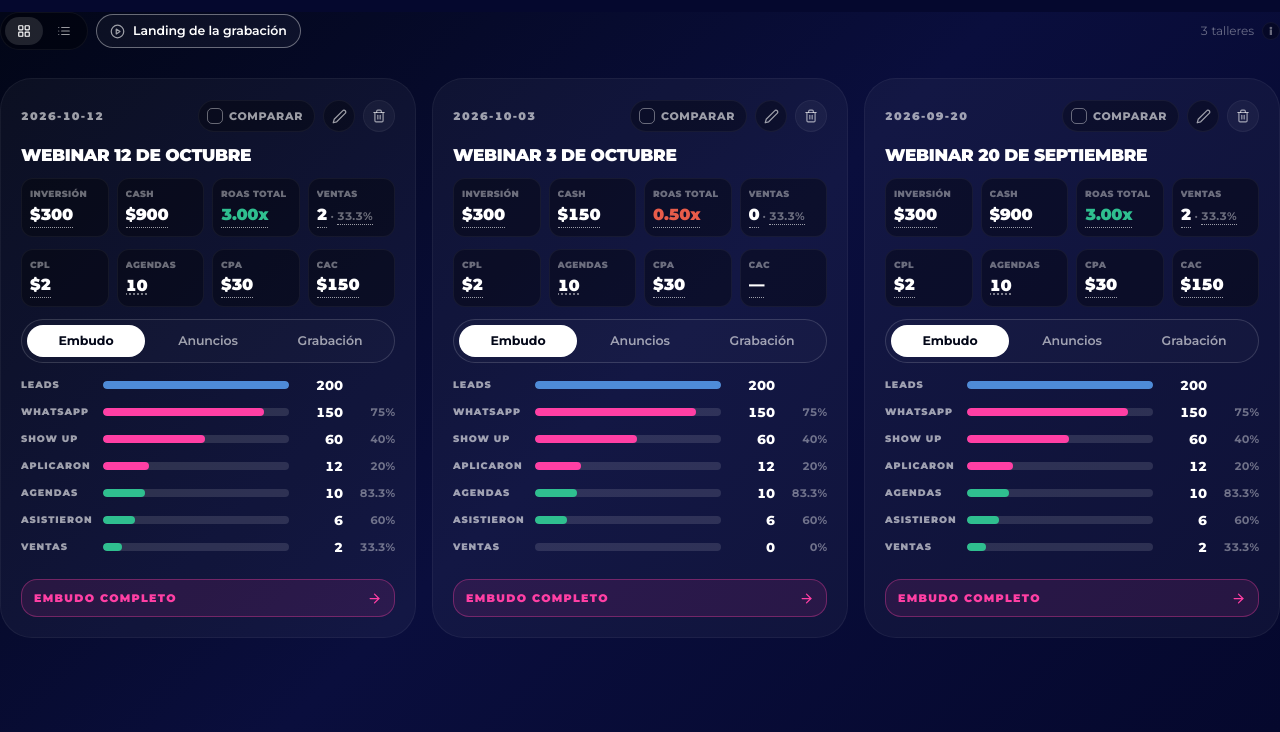
Test: Workshop › Talleres › el interruptor de la grabación la publica 48 h desde la tarjeta
Click the tab "Grabación" below "WEBINAR 12 DE OCTUBRE": [330, 341] box [271,325,389,357]
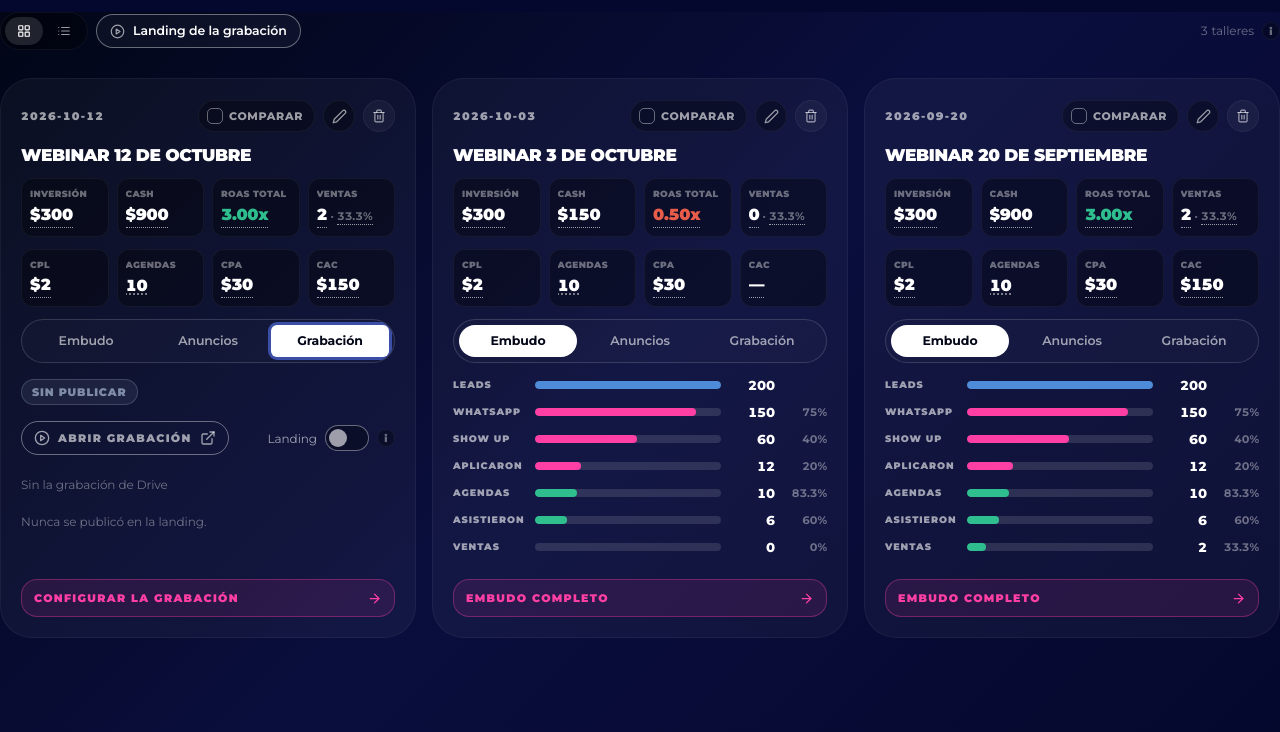
Click the switch named "Landing de la grabación": [347, 438] box [325,425,369,451]
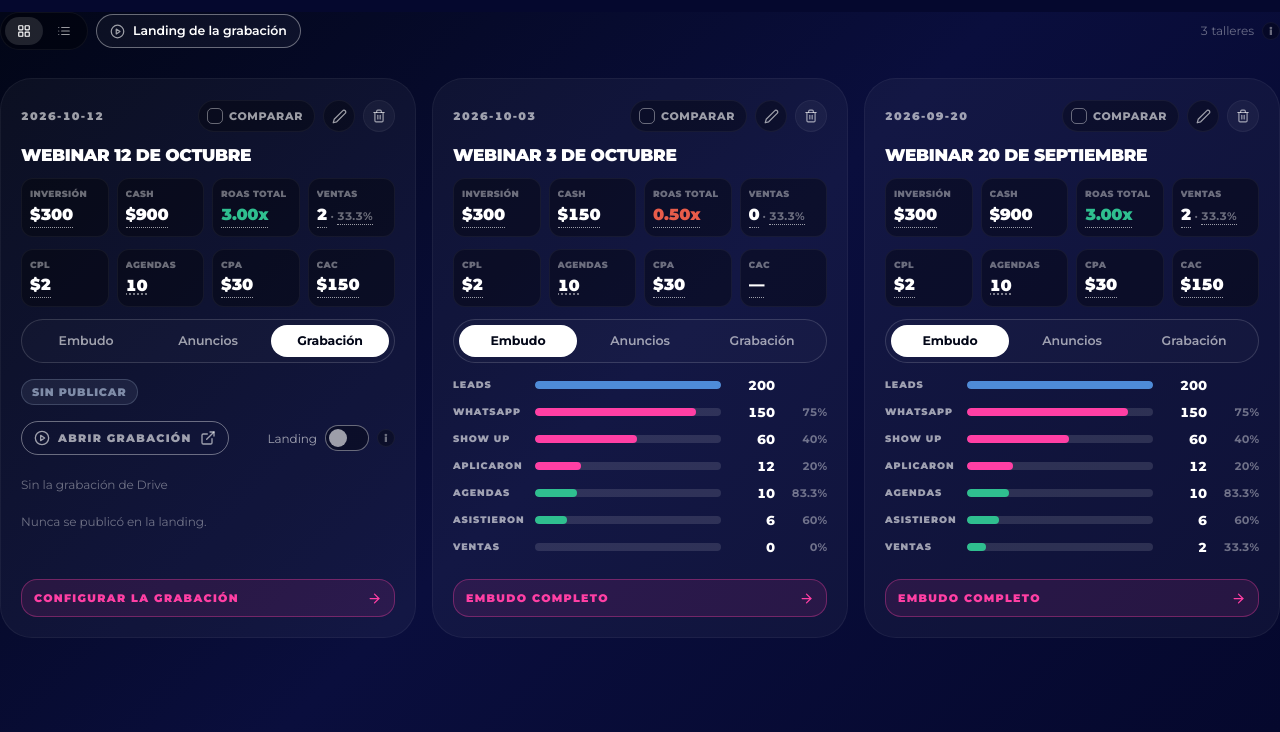
# Sin Loom cargado no se puede prender.
Click the tab "Grabación" below "WEBINAR 3 DE OCTUBRE": [762, 341] box [703,325,821,357]
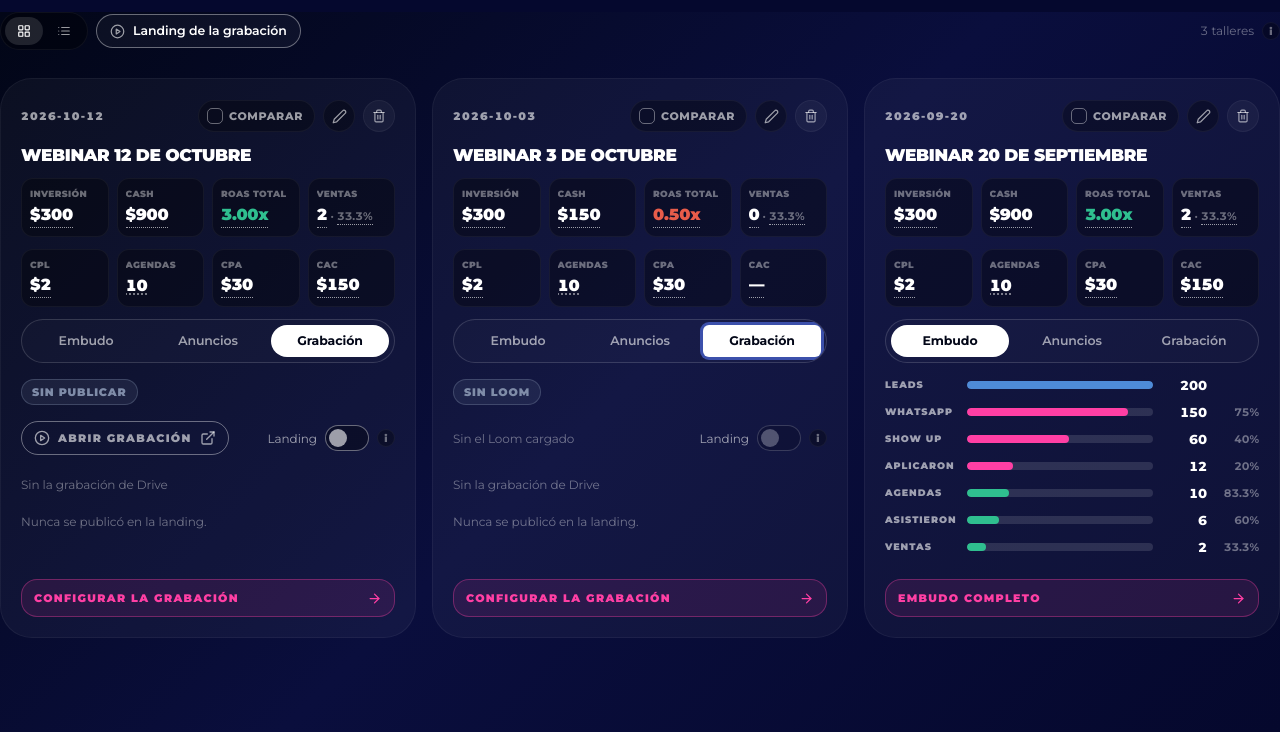
Check: the switch named "Landing de la grabación de WEBINAR 3 DE OCTUBRE" is disabled, box [757,425,801,451]
